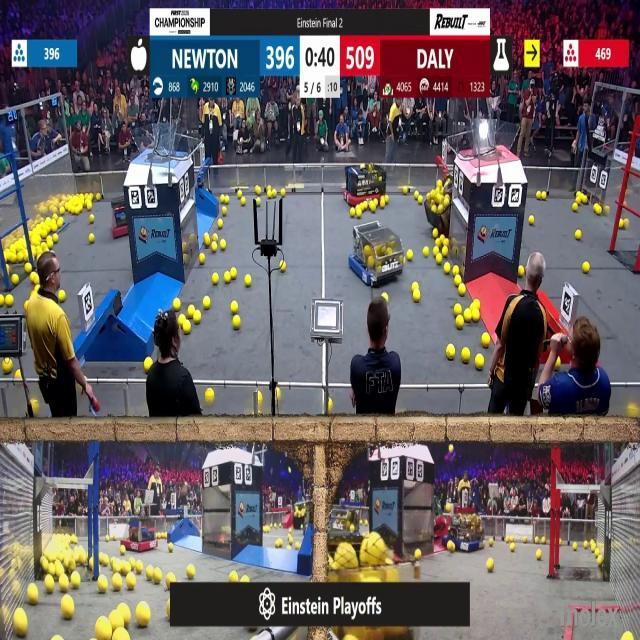ball_airborne: (449, 446, 454, 453)
ball_ground: (94, 619, 110, 640), (14, 613, 26, 638), (62, 597, 75, 620), (137, 606, 150, 629), (29, 586, 39, 605), (121, 611, 130, 629), (127, 574, 137, 589), (60, 578, 70, 593), (112, 574, 121, 590), (45, 578, 54, 594), (30, 401, 39, 417), (99, 579, 108, 594), (152, 568, 160, 584), (71, 573, 80, 587), (2, 359, 11, 373), (461, 348, 469, 363), (206, 388, 214, 403), (447, 345, 455, 359), (474, 355, 482, 369), (628, 406, 637, 418), (116, 631, 128, 640), (234, 316, 242, 329), (482, 335, 490, 348), (193, 310, 200, 324), (456, 316, 464, 328), (4, 294, 12, 306), (59, 290, 67, 302), (231, 570, 239, 582), (111, 560, 119, 572), (187, 565, 194, 578), (487, 559, 494, 572), (183, 321, 190, 334), (454, 305, 462, 316), (168, 572, 176, 583), (204, 296, 211, 308), (232, 302, 239, 314), (144, 357, 151, 369), (414, 290, 421, 302), (212, 274, 219, 286), (187, 306, 194, 318), (146, 568, 153, 580), (178, 314, 185, 326), (136, 562, 143, 574), (452, 277, 460, 287), (348, 207, 356, 217), (11, 275, 18, 286), (31, 274, 38, 285), (223, 273, 230, 284), (46, 239, 53, 250), (575, 192, 582, 203), (584, 263, 590, 275), (174, 300, 180, 312), (243, 276, 249, 288), (100, 554, 106, 566), (131, 560, 137, 572), (471, 312, 478, 322), (415, 551, 422, 561), (445, 265, 452, 275), (595, 205, 602, 215), (623, 633, 633, 640), (448, 540, 455, 550), (464, 311, 471, 321), (369, 203, 376, 213), (408, 250, 414, 261), (205, 235, 211, 246), (242, 574, 250, 582), (453, 267, 460, 276), (574, 231, 580, 241), (459, 285, 465, 295), (423, 247, 429, 257), (200, 253, 206, 263), (518, 268, 524, 278), (211, 240, 217, 250), (232, 270, 238, 280), (557, 358, 562, 370), (220, 240, 226, 250), (356, 208, 362, 218), (472, 298, 478, 308), (90, 558, 96, 568), (596, 558, 603, 566), (540, 191, 547, 199), (582, 197, 589, 205), (74, 206, 81, 214), (59, 217, 64, 228), (90, 235, 96, 244), (435, 254, 441, 263), (413, 282, 419, 291), (432, 247, 438, 256), (26, 265, 32, 274), (14, 369, 20, 378), (572, 204, 578, 213), (276, 538, 282, 547), (88, 202, 94, 211), (182, 254, 188, 263), (444, 247, 449, 257), (281, 264, 286, 274), (381, 200, 386, 210), (327, 399, 332, 409), (268, 189, 274, 197), (413, 190, 419, 198), (444, 238, 450, 246), (51, 236, 57, 244), (536, 551, 541, 560), (432, 230, 437, 239), (620, 219, 625, 228), (61, 207, 66, 216), (0, 294, 4, 305), (212, 235, 218, 242), (511, 543, 517, 550), (402, 186, 408, 193), (221, 208, 227, 215), (237, 190, 243, 197), (120, 544, 124, 554), (529, 216, 534, 224), (169, 542, 174, 550), (97, 192, 102, 200), (489, 538, 494, 546), (434, 240, 439, 248), (281, 188, 286, 196), (255, 186, 260, 194), (572, 542, 577, 550), (288, 536, 293, 544), (223, 197, 228, 205), (218, 219, 222, 228), (90, 215, 95, 222), (242, 199, 246, 207), (536, 190, 540, 198), (256, 200, 260, 208), (220, 194, 224, 202), (55, 636, 63, 640), (538, 538, 542, 546), (585, 540, 589, 548), (385, 194, 389, 202), (25, 302, 29, 310), (273, 189, 277, 197), (287, 544, 292, 550), (505, 535, 509, 542), (419, 198, 423, 205), (524, 536, 528, 542), (295, 542, 299, 548), (105, 536, 109, 542), (113, 534, 117, 540)
goal: (466, 123, 522, 159), (131, 129, 189, 161)
robot_blue: (349, 224, 407, 286), (446, 514, 485, 552)
robot_red: (601, 516, 640, 638), (343, 162, 385, 204), (122, 514, 158, 552), (110, 197, 128, 239)
